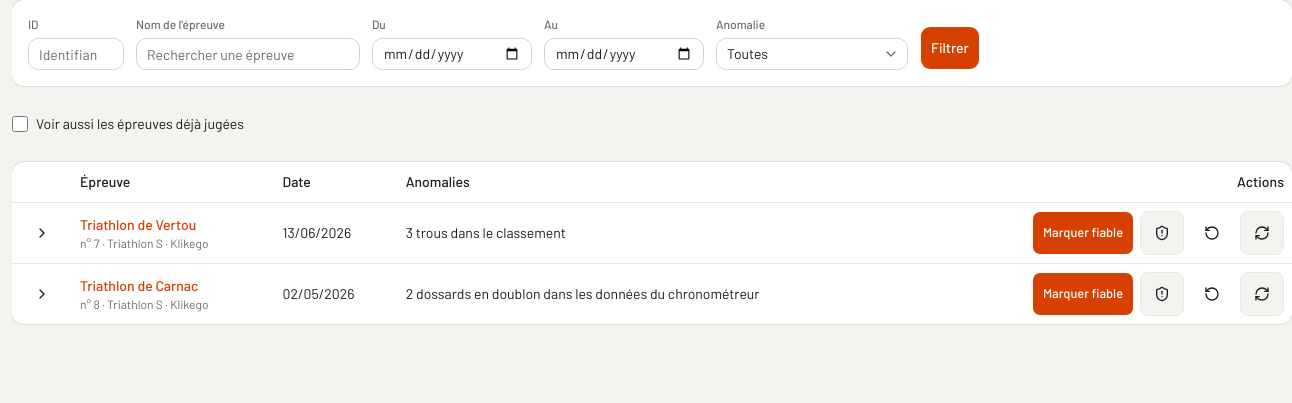
Test: QualityQueueTable › propose « Supprimer » sur la source passive dans la ligne dépliée
The image size is (1292, 403).
Expected: the link "Triathlon de Vertou" is shown, x1=80 y1=216 x2=196 y2=232
Click the button named "Afficher les sources — Triathlon de Vertou": coordinates (42, 232) x1=20 y1=210 x2=64 y2=254
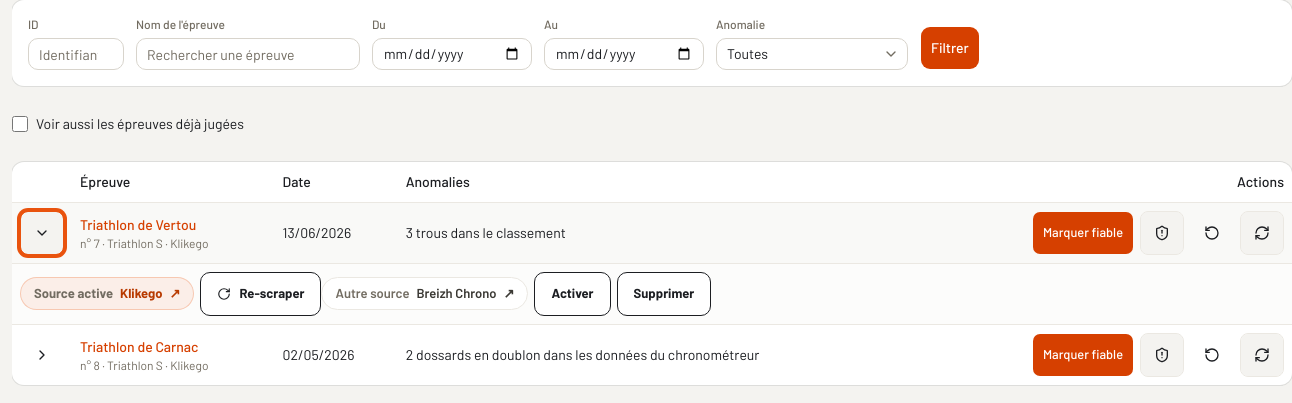
Expected: the button "Supprimer" is shown, x1=616 y1=272 x2=711 y2=316
